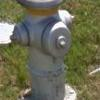Hydrant: (7, 3, 78, 100)
